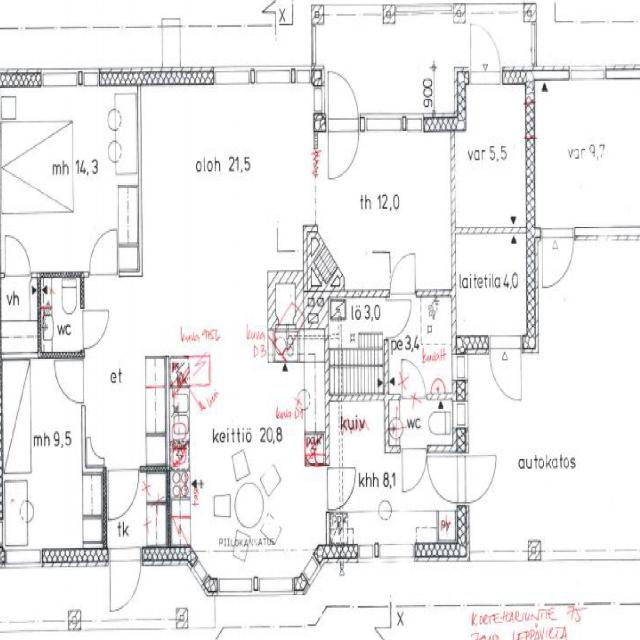door: (110, 545, 142, 610), (490, 335, 521, 402), (328, 66, 359, 131), (328, 114, 359, 178), (455, 456, 497, 503), (426, 456, 467, 503), (542, 227, 573, 289), (470, 19, 500, 81), (109, 466, 139, 520), (54, 360, 85, 403), (90, 229, 117, 278), (326, 468, 356, 509), (390, 250, 415, 296), (5, 233, 30, 278), (384, 300, 413, 338), (402, 446, 426, 491), (81, 311, 109, 348)
